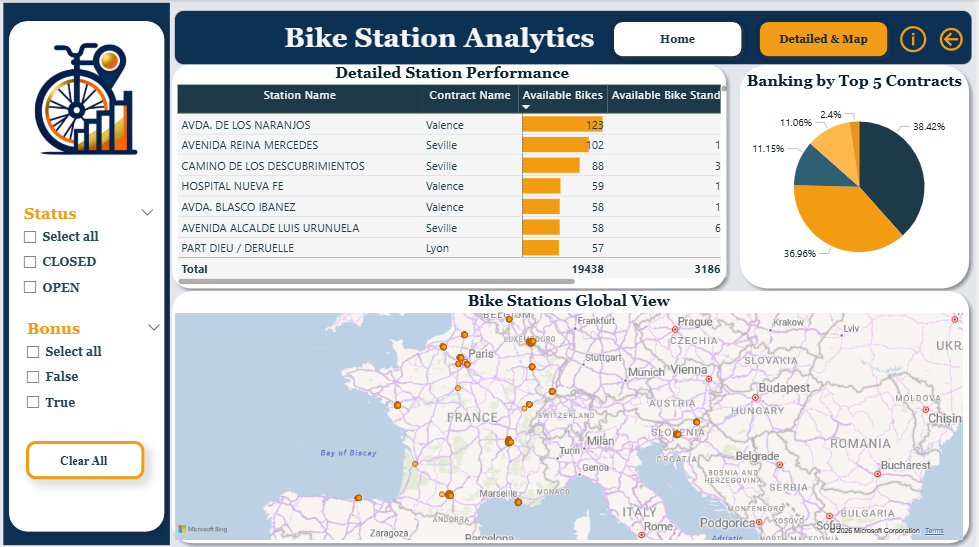

Layout of this report page (visuals, bound fields, positions):
{"tool":"powerbi","page":{"name":"Detailed & Map","canvas":[1280,720],"ordinal":1},"visuals":[{"type":"image","title":"Pannel bg","box":[0,0,231.7,720],"z":0,"group":"g2"},{"type":"image","box":[226.7,10,1053.3,80],"z":0,"group":"g3"},{"type":"shape","box":[218.4,77.2,743.5,310.6],"z":0},{"type":"slicer","title":"Bonus","fields":{"Values":["Bike_Station_DB.Bonus"]},"box":[16.6,413.3,208.3,148.3],"z":0,"group":"g1"},{"type":"actionButton","box":[1228.4,31.7,51.7,40],"z":500,"group":"g3"},{"type":"shape","box":[227.6,10,700,80],"z":1000,"group":"g3"},{"type":"shape","box":[5,20,221.7,686.7],"z":1000,"group":"g2"},{"type":"shape","box":[961.9,77.2,318.1,310.6],"z":1000},{"type":"slicer","title":"Bonus","fields":{"Values":["Bike_Station_DB.Status"]},"box":[13.3,263.3,203.3,148.3],"z":1000,"group":"g1"},{"type":"pageNavigator","box":[797.1,20,376.7,63.3],"z":2000,"group":"g3"},{"type":"image","title":"Logo","box":[16.7,31.7,196.7,198.3],"z":2000,"group":"g2"},{"type":"tableEx","title":"Detailed Station Performance","fields":{"Values":["Bike_Station_DB.Station Name","Dim_Contract.Dim_Contract_Name","Sum(Bike_Station_DB.Available Bikes)","Sum(Bike_Station_DB.Available Bike Stands)","Meaures.Total Capacity","Meaures.Utilization Rate"]},"box":[228.9,84.4,731.1,294.4],"z":2000},{"type":"actionButton","title":"Info","box":[1175.5,30,48.3,45],"z":3000,"group":"g3"},{"type":"shape","box":[218.3,373.3,1061.7,348.3],"z":3000},{"type":"actionButton","title":"Clear all Filters","box":[36.7,578.3,155,50],"z":3000,"group":"g2"},{"type":"pieChart","title":" Banking by Top 5 Contracts","fields":{"Y":["CountNonNull(Bike_Station_DB.Banking)"],"Category":["Bike_Station_DB.Contract Name"]},"box":[975.7,95.7,304.3,278.6],"z":4000},{"type":"group","id":"g1","title":"slicer","box":[13.3,263.3,211.7,298.3],"z":4000,"group":"g2"},{"type":"map","title":"Bike Stations Global View ","fields":{"X":["Bike_Station_DB.Longitude"],"Y":["Bike_Station_DB.Latitude"]},"box":[226.7,383.3,1041.7,330],"z":5000},{"type":"group","id":"g2","title":"Pannel","box":[0,0,231.7,720],"z":6000},{"type":"group","id":"g3","title":"Tile","box":[226.7,10,1053.3,80],"z":11000}]}

Visuals, with their boxes in screenshot pixels (x1, y1, x2, y2), scaled from the page's 1280x720 canvas onto the 979x547 screenshot:
"Pannel bg" image: {"left": 0, "top": 0, "right": 177, "bottom": 546}
image: {"left": 173, "top": 8, "right": 978, "bottom": 68}
shape: {"left": 167, "top": 59, "right": 736, "bottom": 295}
"Bonus" slicer: {"left": 13, "top": 314, "right": 172, "bottom": 427}
actionButton: {"left": 940, "top": 24, "right": 978, "bottom": 54}
shape: {"left": 174, "top": 8, "right": 709, "bottom": 68}
shape: {"left": 4, "top": 15, "right": 173, "bottom": 537}
shape: {"left": 736, "top": 59, "right": 978, "bottom": 295}
"Bonus" slicer: {"left": 10, "top": 200, "right": 166, "bottom": 313}
pageNavigator: {"left": 610, "top": 15, "right": 898, "bottom": 63}
"Logo" image: {"left": 13, "top": 24, "right": 163, "bottom": 175}
"Detailed Station Performance" tableEx: {"left": 175, "top": 64, "right": 734, "bottom": 288}
"Info" actionButton: {"left": 899, "top": 23, "right": 936, "bottom": 57}
shape: {"left": 167, "top": 284, "right": 978, "bottom": 546}
"Clear all Filters" actionButton: {"left": 28, "top": 439, "right": 147, "bottom": 477}
" Banking by Top 5 Contracts" pieChart: {"left": 746, "top": 73, "right": 978, "bottom": 284}
"slicer" group: {"left": 10, "top": 200, "right": 172, "bottom": 427}
"Bike Stations Global View " map: {"left": 173, "top": 291, "right": 970, "bottom": 542}
"Pannel" group: {"left": 0, "top": 0, "right": 177, "bottom": 546}
"Tile" group: {"left": 173, "top": 8, "right": 978, "bottom": 68}
